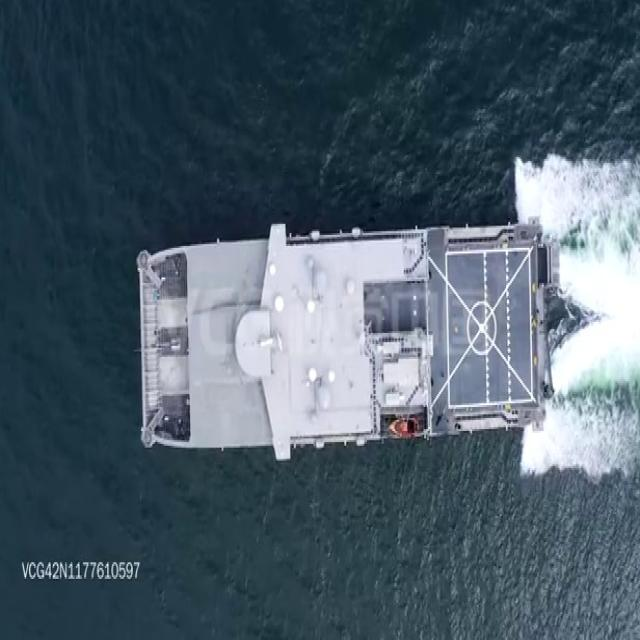navalvessels: (135, 210, 569, 454)
